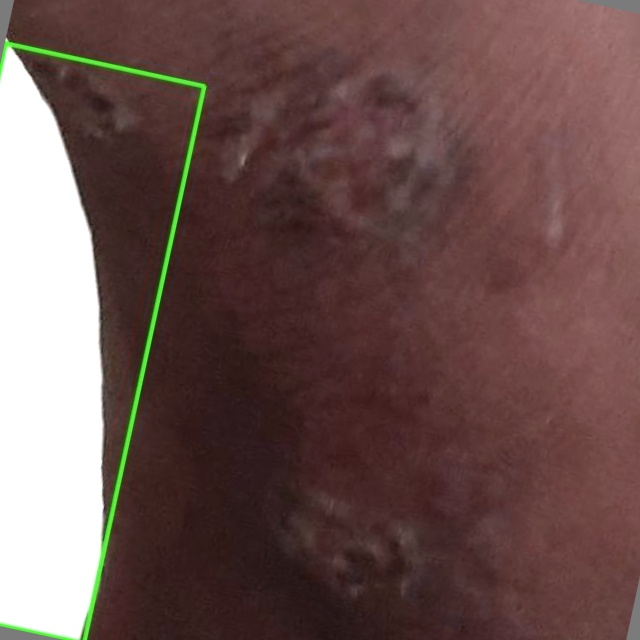Eczema: (0, 43, 204, 639)
